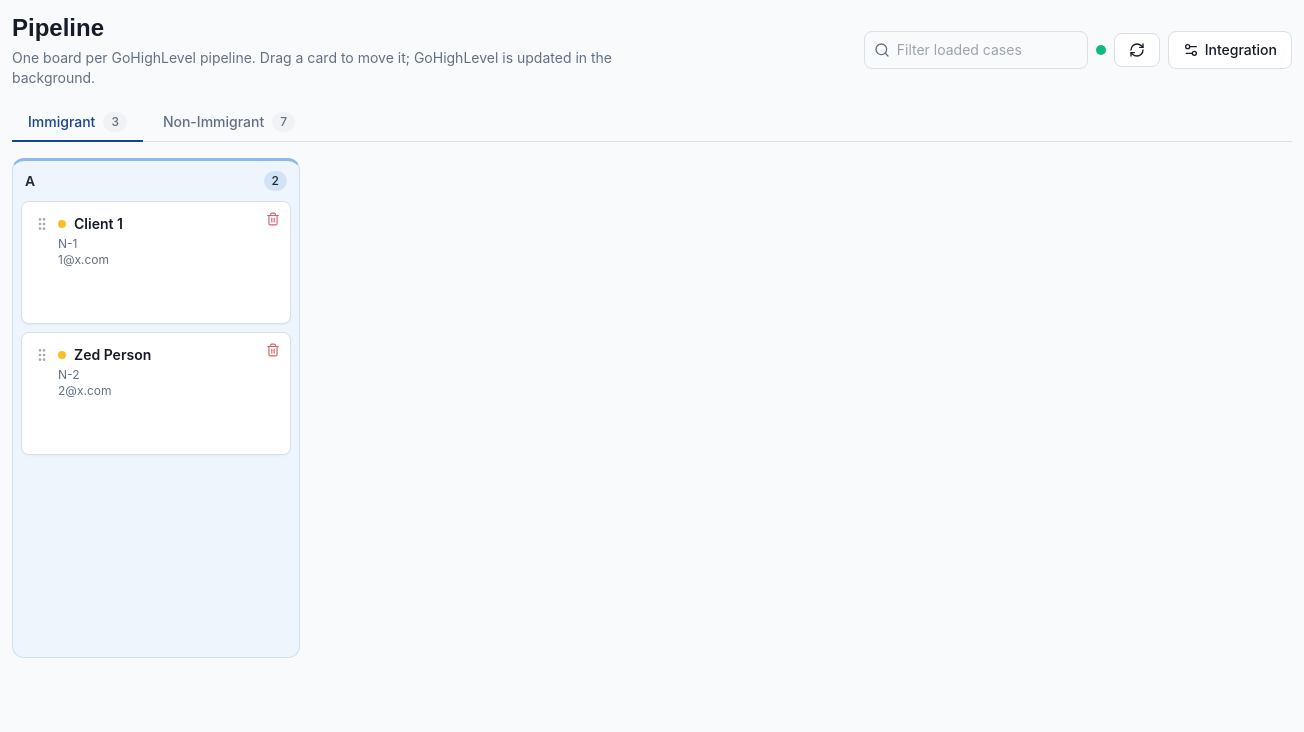
Pipeline page › filters loaded cards client-side
Type "zed" into the field labelled "Filter loaded cases" at (976, 50), box left=864, top=31, right=1088, bottom=69
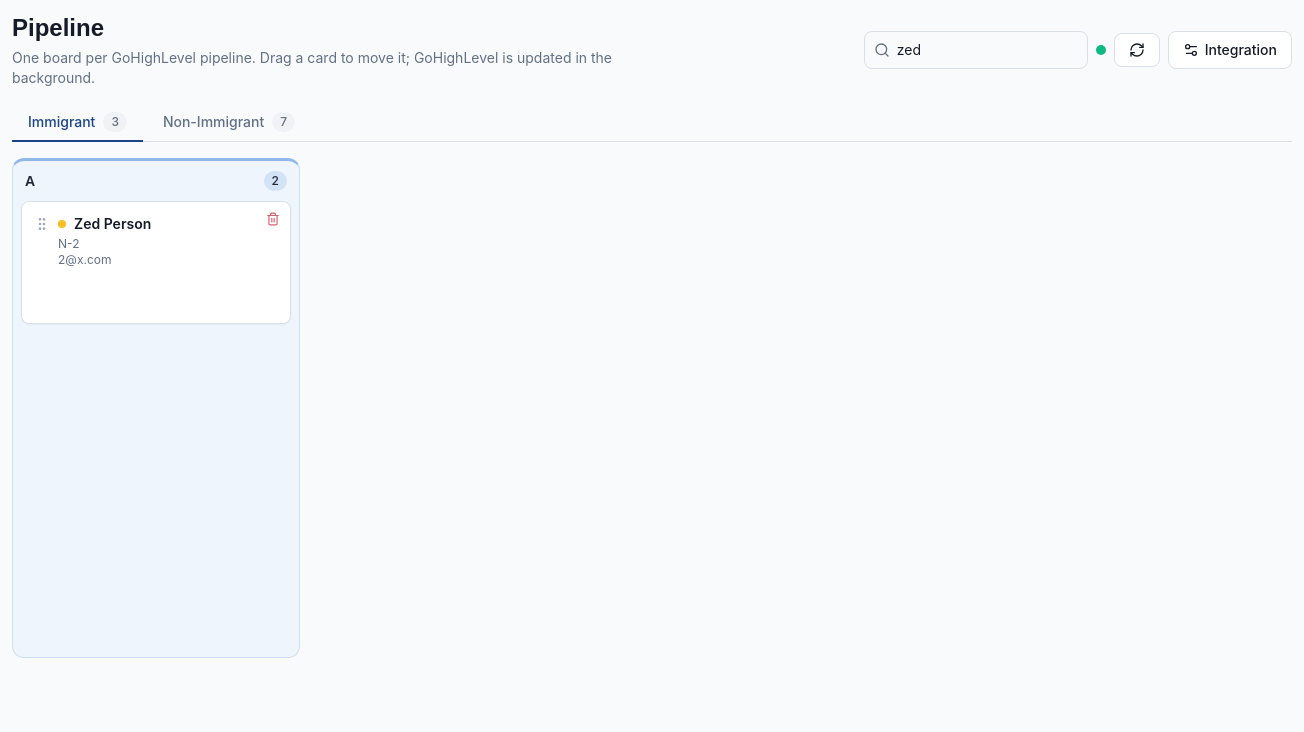
Expected: the text "Zed Person" is shown, left=74, top=214, right=151, bottom=234
Now the button "Client 1" is gone
